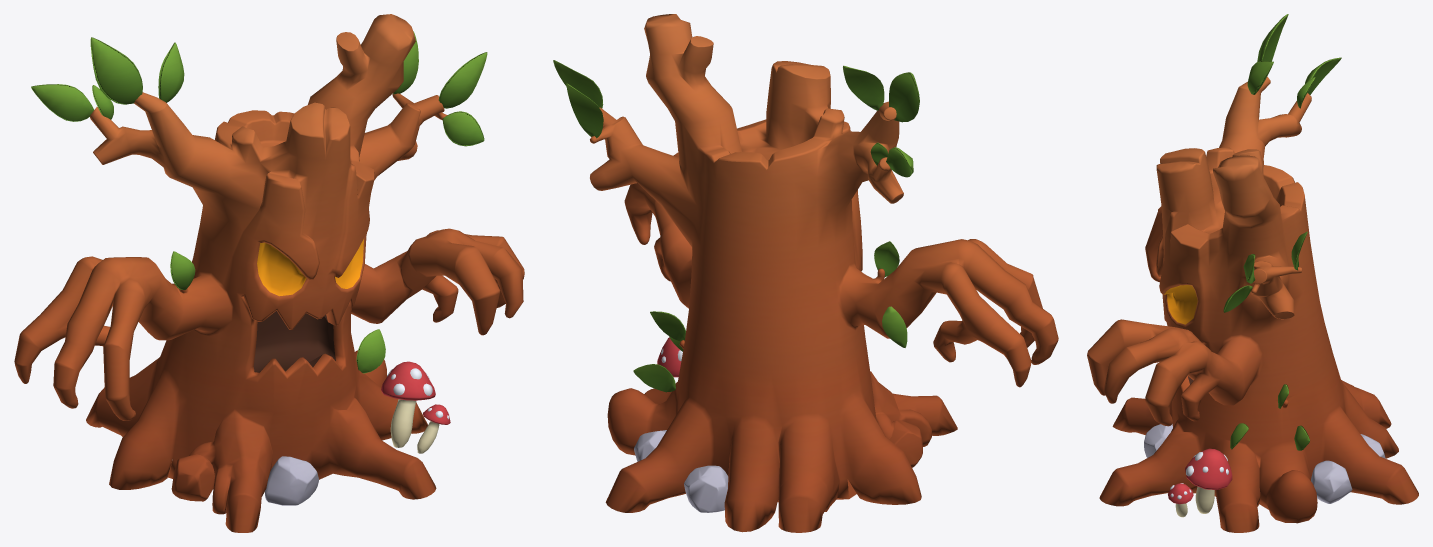
The model's file is monster_tree.glb.
3 views of the same model, side by side, from view 1: azimuth 30°, elevation 25°; view 2: azimuth 150°, elevation 25°; view 3: azimuth 270°, elevation 25° (orthographic). The views are drawn at different scales.
Parts seen in each view (by area): view 1: WBA_Creature_MonsterPlant_01; view 2: WBA_Creature_MonsterPlant_01; view 3: WBA_Creature_MonsterPlant_01.
Boxes of the visible parts, box(x1,y1,x2,y2) form: WBA_Creature_MonsterPlant_01: box(14, 14, 524, 532); WBA_Creature_MonsterPlant_01: box(553, 14, 1058, 532); WBA_Creature_MonsterPlant_01: box(1087, 14, 1418, 532).
Bounding box in the file's own units: 4.47 × 3.97 × 3.07.
Materials: 1 (1 with a texture image).
